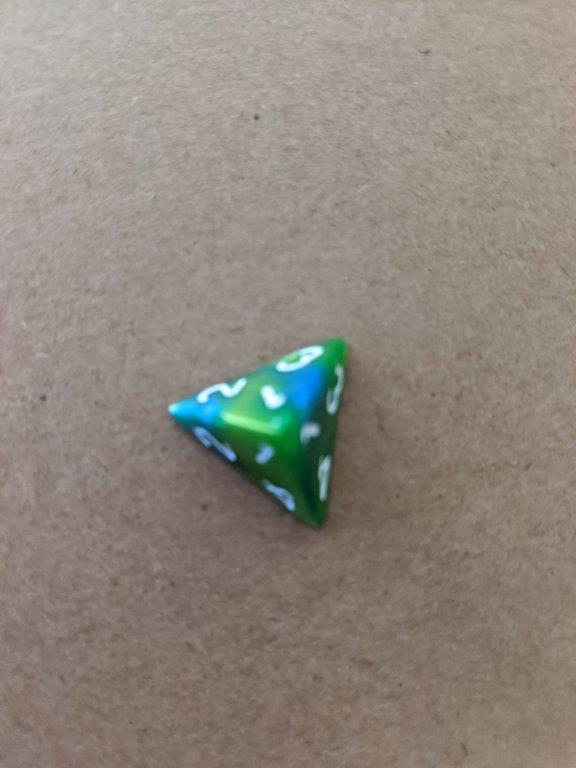d4-1: (162, 335, 357, 533)
